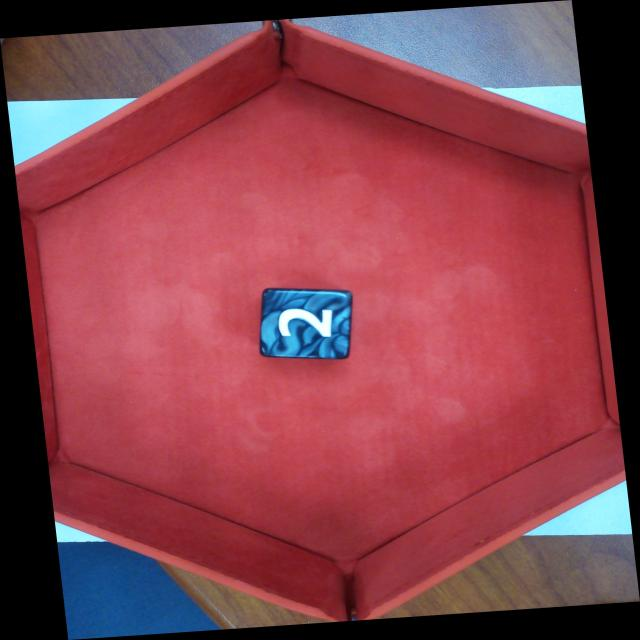dice: (261, 290, 351, 357)
